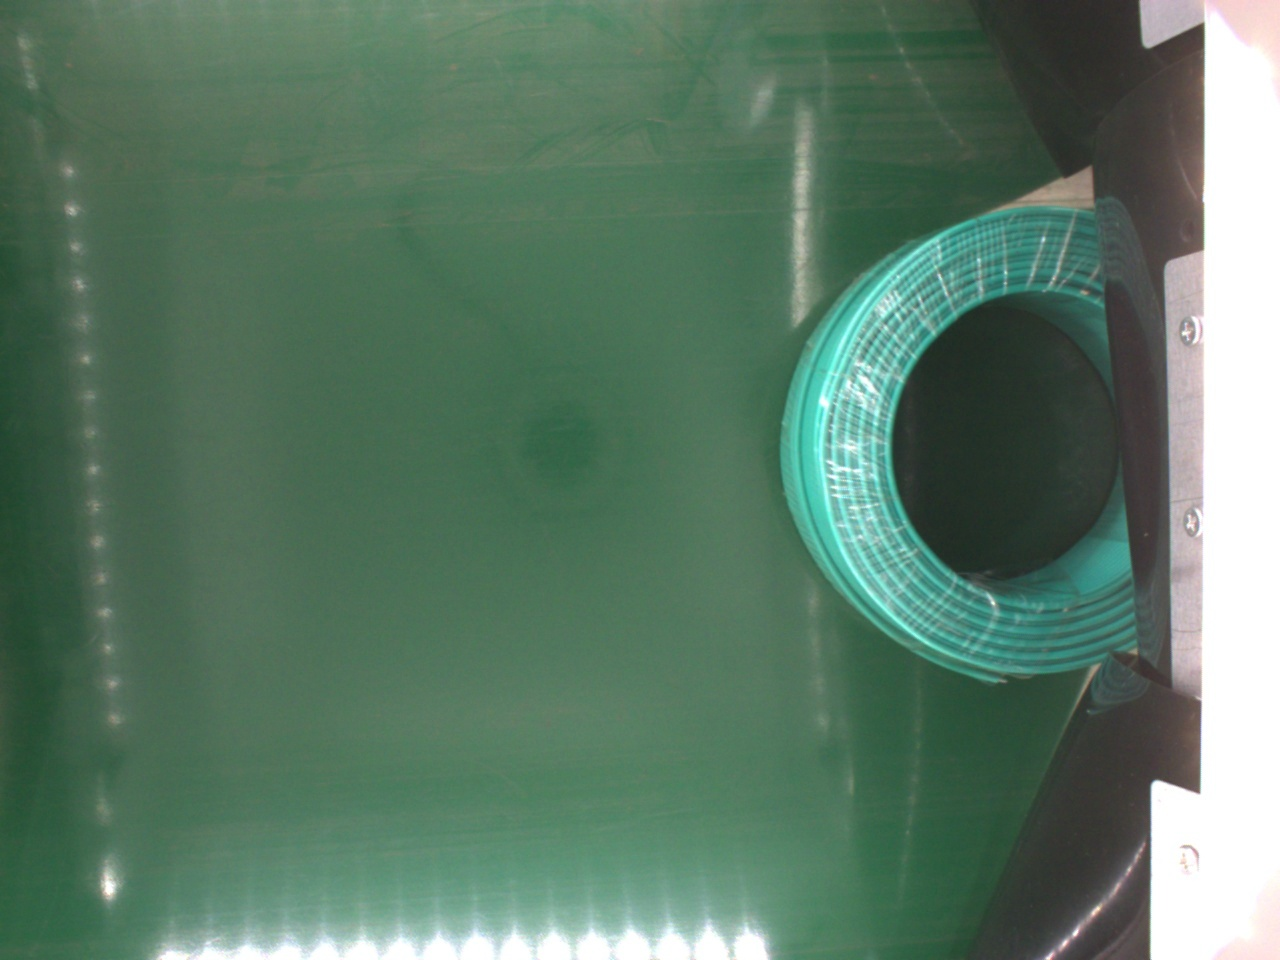green: (770, 210, 1139, 681)
